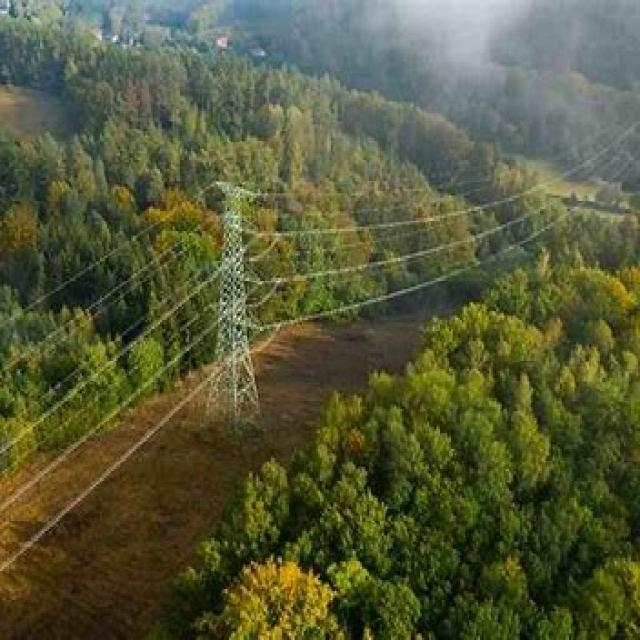utility poles: (195, 148, 282, 436)
